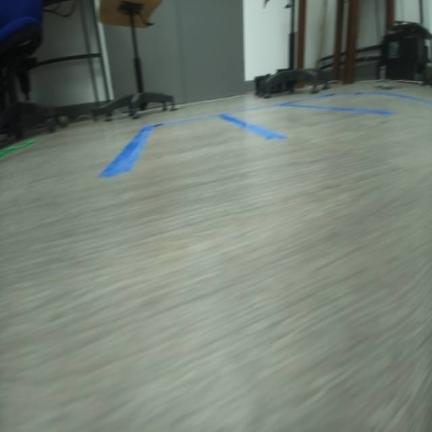place: (98, 111, 285, 181), (217, 101, 399, 141), (285, 89, 431, 118)
